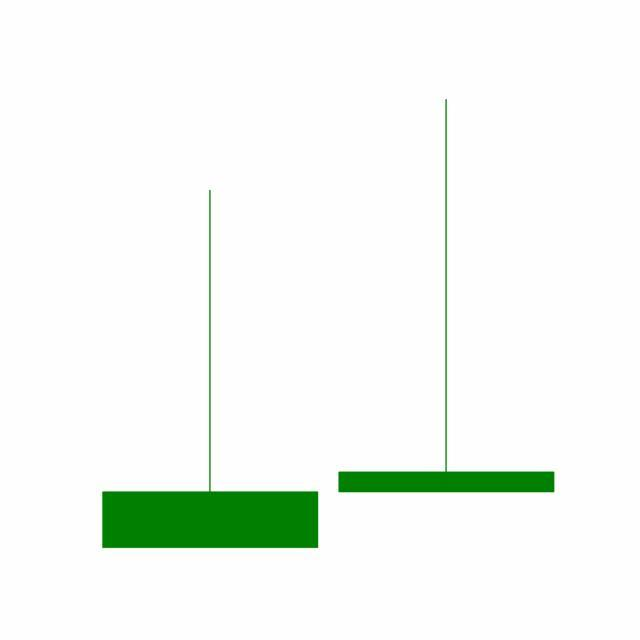Gravestone Doji: (328, 95, 566, 496)
